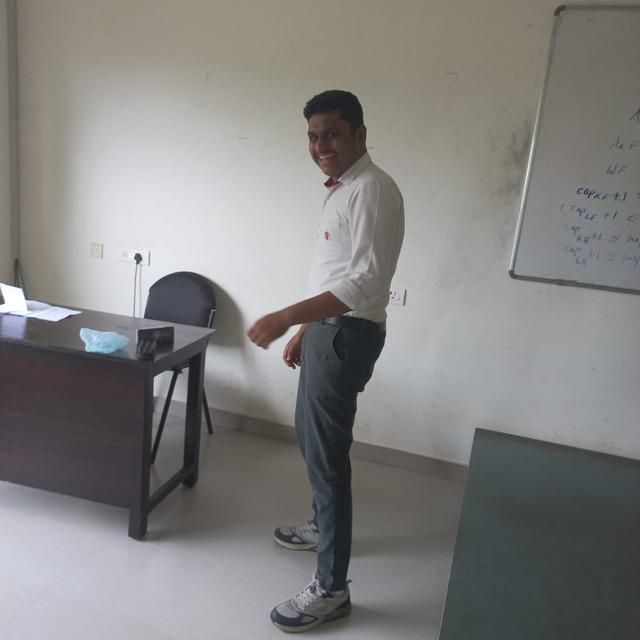no_apron: (314, 192, 347, 317)
no_gloves: (245, 309, 293, 353), (283, 322, 309, 368)
no_hairnet: (303, 88, 369, 131)
